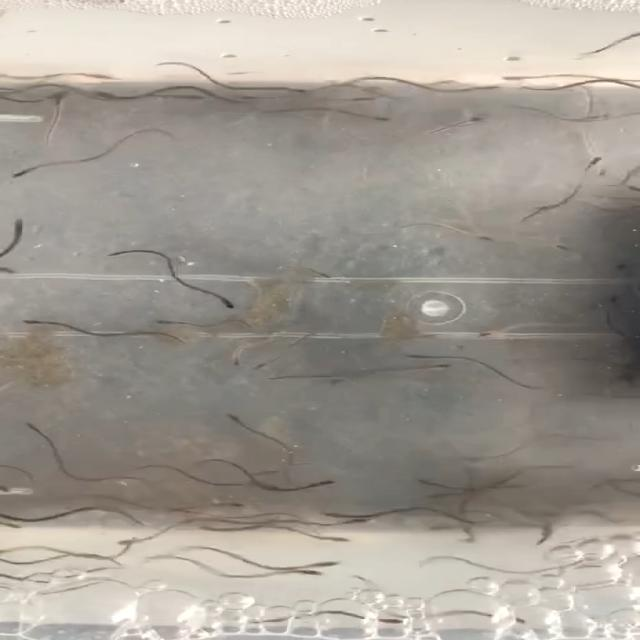active_glass_eel: (534, 237, 582, 260), (315, 476, 352, 502), (471, 230, 512, 252), (214, 348, 254, 370), (85, 68, 126, 89), (433, 361, 472, 381), (298, 568, 330, 592), (478, 324, 509, 348), (247, 465, 303, 478), (344, 516, 389, 532), (6, 215, 48, 232), (210, 409, 252, 425), (411, 470, 448, 488), (242, 359, 280, 376), (145, 312, 191, 326), (405, 344, 434, 366), (3, 166, 40, 183), (314, 556, 348, 574), (218, 500, 256, 516), (458, 112, 501, 126), (506, 613, 539, 631), (28, 91, 82, 102), (14, 316, 56, 330), (367, 114, 401, 130), (20, 420, 52, 437), (602, 260, 630, 279), (377, 617, 414, 631), (305, 506, 347, 518), (166, 88, 206, 100), (210, 296, 244, 310), (326, 532, 354, 549), (524, 531, 558, 545), (500, 72, 534, 85), (580, 108, 604, 126), (94, 88, 119, 105), (580, 148, 601, 168), (280, 82, 308, 96), (416, 492, 449, 503), (342, 95, 384, 103), (596, 168, 620, 182), (309, 272, 337, 282)
